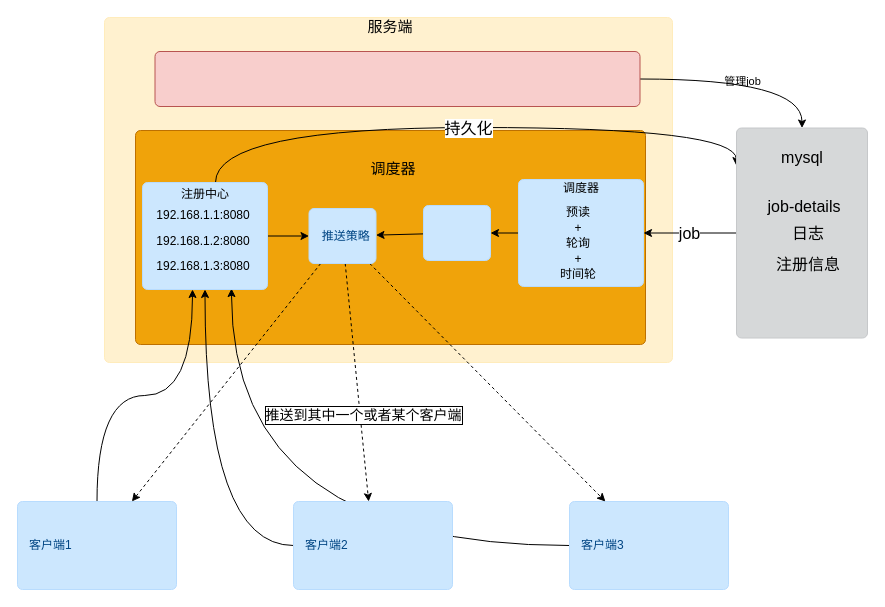
The diagram is 885 pixels wide and 607 high, and some of its shapes have lost their labels. The shapes that lost their labels are listed below. From the top down, each one's box as (x1, y1, x2, y2) in pixels, then its label:
(154, 50, 640, 106): 管理界面+用户管理
(422, 204, 490, 260): 线程池
